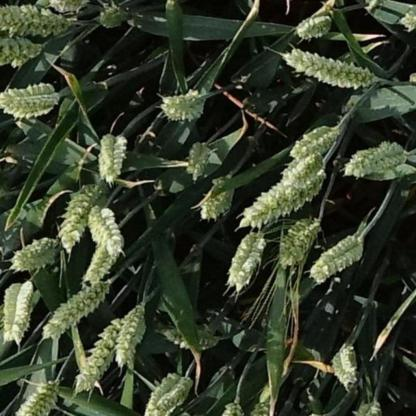whd: (240, 169, 327, 228), (281, 48, 379, 90), (42, 281, 110, 341), (75, 318, 122, 392), (59, 184, 101, 251), (310, 236, 364, 282), (344, 141, 408, 178), (227, 232, 265, 292), (0, 5, 72, 36), (144, 373, 194, 416), (0, 84, 60, 119), (279, 218, 321, 267), (4, 280, 34, 344), (87, 205, 122, 257), (116, 307, 146, 367), (290, 126, 340, 160), (80, 244, 116, 291), (12, 237, 60, 272), (14, 382, 60, 415), (280, 154, 324, 188), (201, 177, 232, 220), (99, 134, 126, 183), (160, 91, 204, 121), (0, 38, 43, 68), (161, 328, 218, 350), (333, 346, 357, 386), (186, 142, 211, 178), (296, 16, 332, 40), (98, 5, 128, 28), (50, 0, 88, 13), (400, 9, 416, 33), (356, 402, 381, 416), (222, 402, 243, 416), (250, 402, 271, 416)
